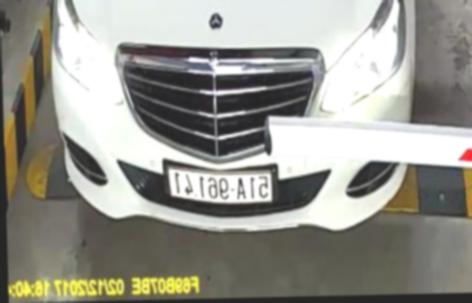License_Plate: (162, 163, 277, 206)
